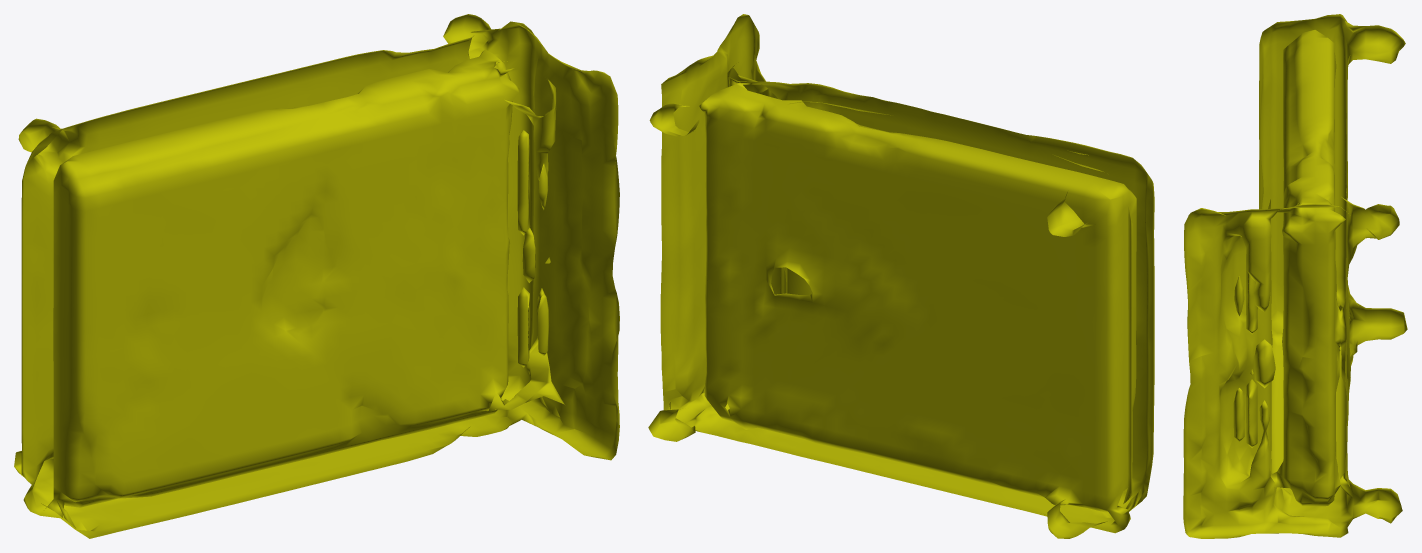
3 renders of one model, left to right at view 1: azimuth 30°, elevation 25°; view 2: azimuth 150°, elevation 25°; view 3: azimuth 270°, elevation 25°, orthographic. The views are drawn at different scales.
Visible parts, largest first — view 1: world; view 2: world; view 3: world.
Part boxes in pixels (x1,y1,x2,y2): world: (14, 14, 619, 538); world: (648, 14, 1154, 538); world: (1183, 14, 1407, 538).
Size of the model in its own units: 40.73 by 29.45 by 17.77.
